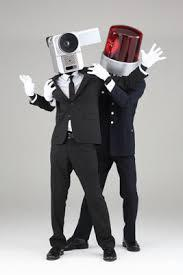no more kid: (45, 26, 104, 75)
